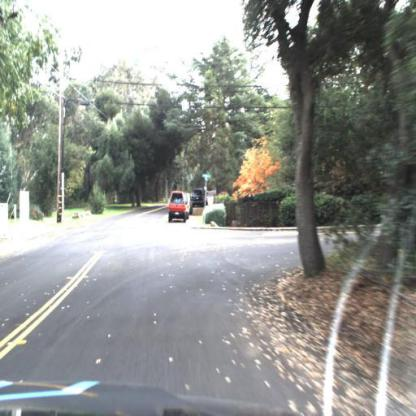car: (167, 188, 188, 228), (188, 186, 210, 209), (192, 187, 209, 210), (185, 191, 192, 219)
